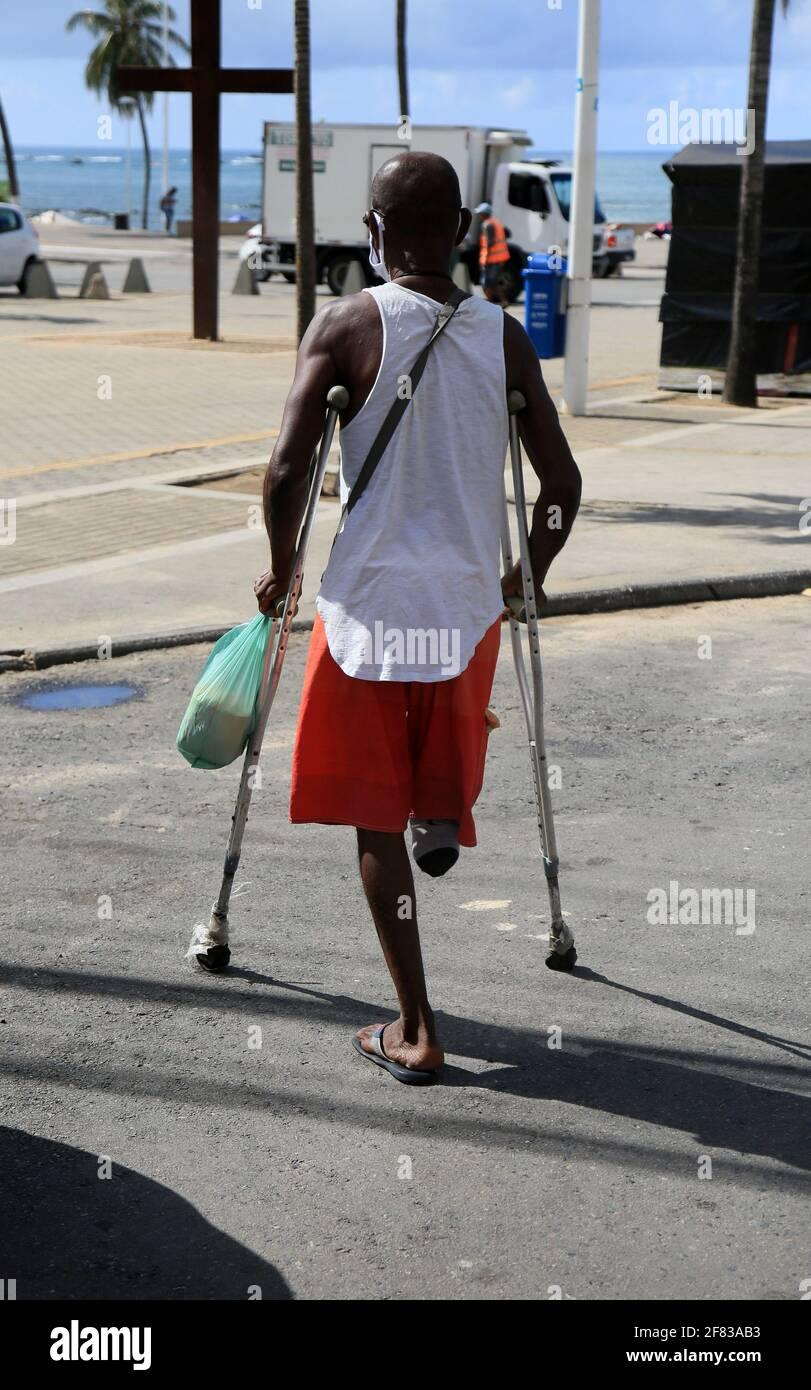crutches: (175, 151, 582, 1086)
